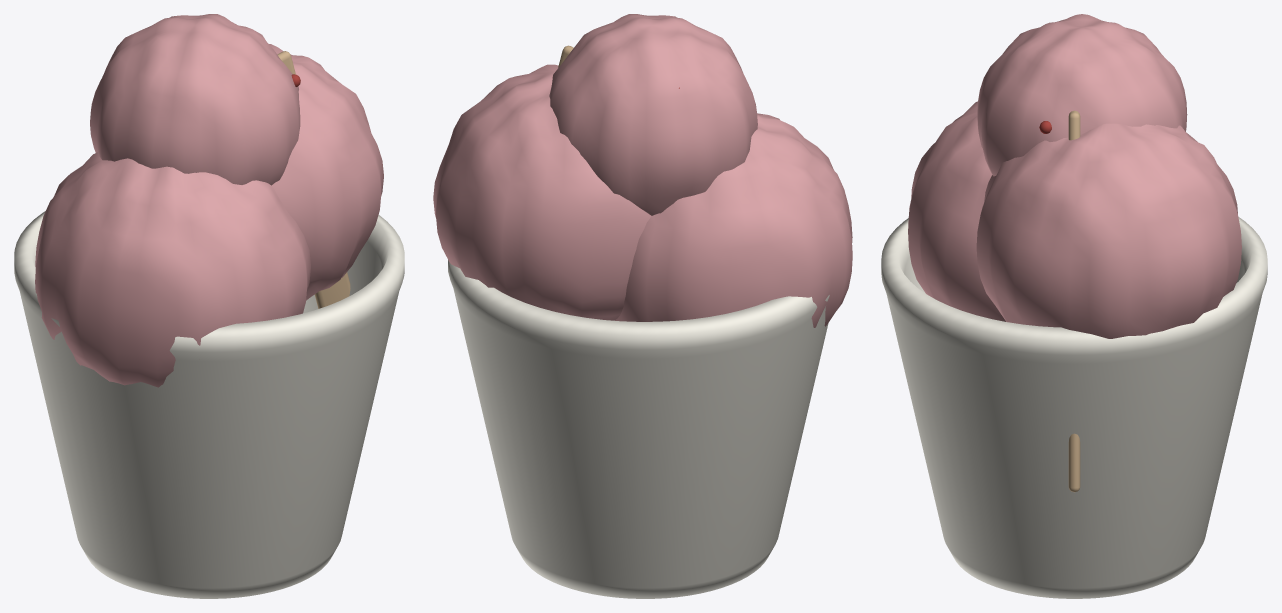
The model's file is icecream_strawberry.glb.
The picture shows the model from 3 angles, left to right: view 1: azimuth 30°, elevation 25°; view 2: azimuth 150°, elevation 25°; view 3: azimuth 270°, elevation 25°; orthographic projection. The views are drawn at different scales.
Parts seen in each view (by area): view 1: lathe, bola_cremosa, bola_cremosa.002, bola_cremosa.001, Cube; view 2: lathe, bola_cremosa.001, bola_cremosa, bola_cremosa.002; view 3: lathe, bola_cremosa.001, bola_cremosa.002, bola_cremosa, Cube.
Part boxes in pixels (<box>): lathe: <box>14,211,404,598</box>; bola_cremosa: <box>35,152,310,387</box>; bola_cremosa.002: <box>90,14,300,185</box>; bola_cremosa.001: <box>269,44,383,300</box>; Cube: <box>277,51,350,308</box>; lathe: <box>448,260,829,598</box>; bola_cremosa.001: <box>433,64,651,320</box>; bola_cremosa: <box>615,113,852,327</box>; bola_cremosa.002: <box>549,14,757,215</box>; lathe: <box>881,217,1267,598</box>; bola_cremosa.001: <box>976,123,1241,338</box>; bola_cremosa.002: <box>977,14,1187,176</box>; bola_cremosa: <box>908,101,1005,321</box>; Cube: <box>1068,110,1080,492</box>.
Size of the model in its own units: 0.1031 by 0.1477 by 0.1.
